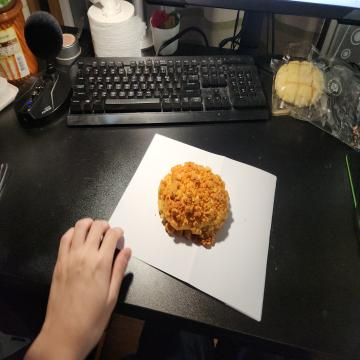soboru_bread: (154, 160, 230, 249)
